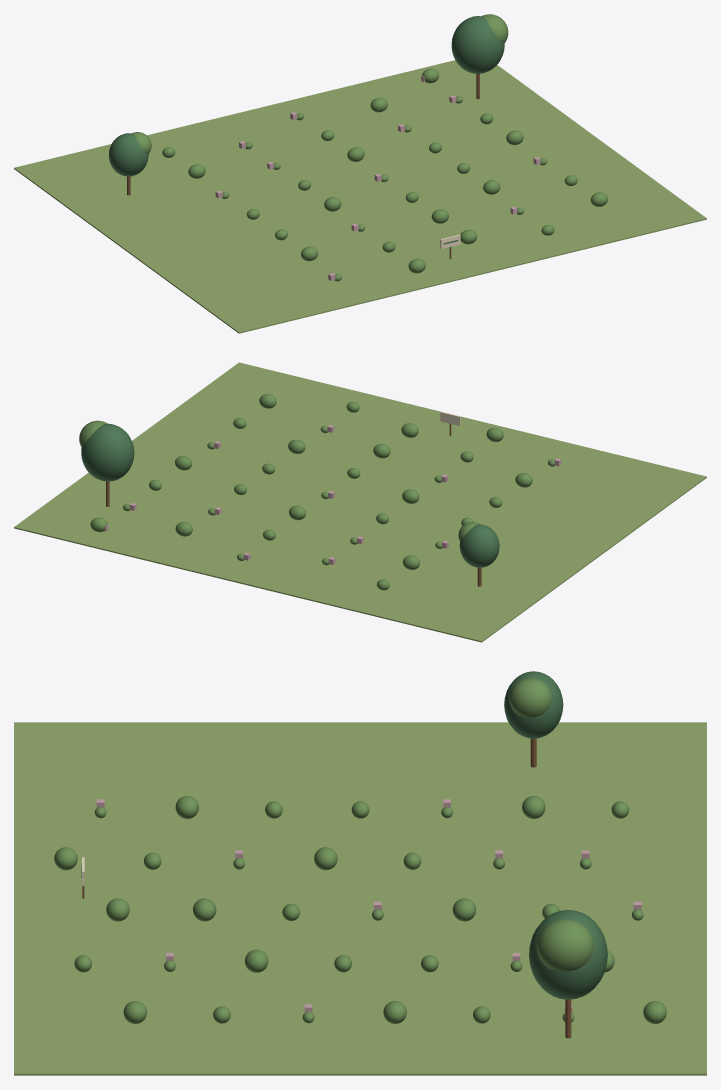
The model's file is stewardship-agreement.glb.
The picture shows the model from 3 angles, top to bottom: view 1: azimuth 30°, elevation 25°; view 2: azimuth 150°, elevation 25°; view 3: azimuth 270°, elevation 25°; orthographic projection. The views are drawn at different scales.
Parts seen in each view (by area): view 1: stewardship-agreement; view 2: stewardship-agreement; view 3: stewardship-agreement.
Part boxes in pixels (left/top/right/bottom): stewardship-agreement: left=14, top=14, right=706, bottom=333; stewardship-agreement: left=14, top=362, right=706, bottom=642; stewardship-agreement: left=14, top=671, right=706, bottom=1075.
Bounding box in the file's own units: 48 × 8 × 40.
